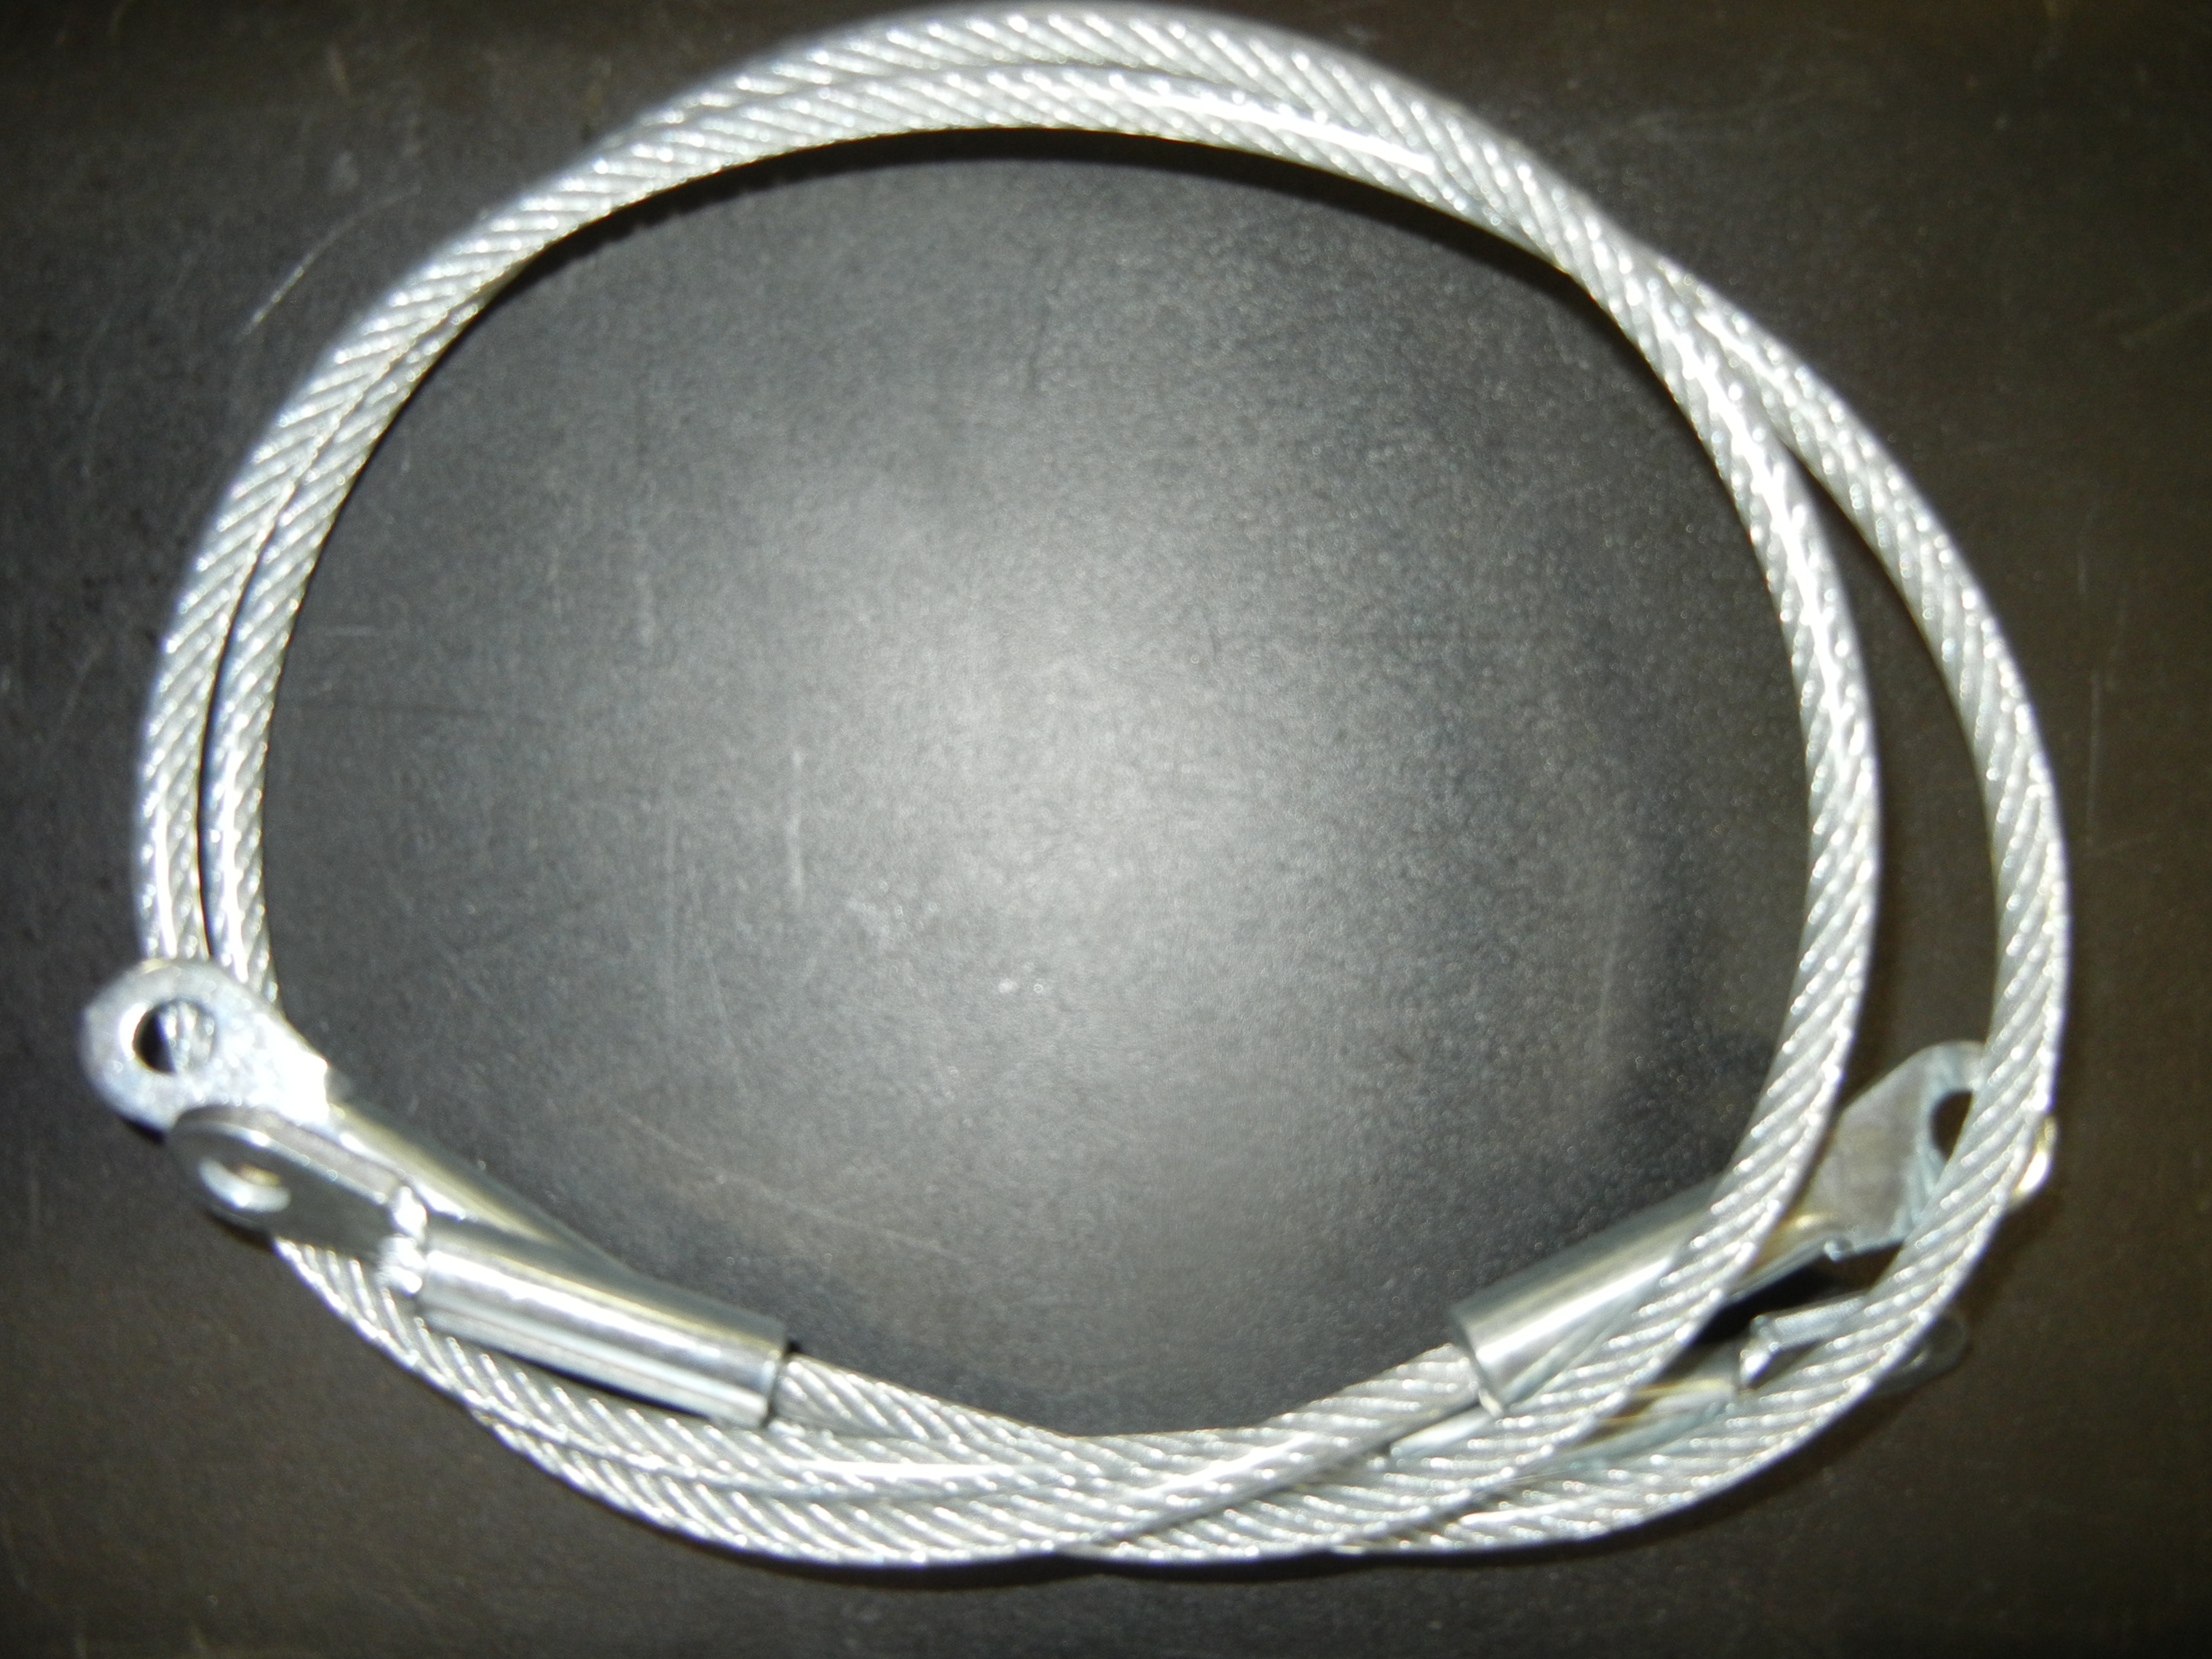Nonrec_Tangler: (84, 17, 2088, 1596)
